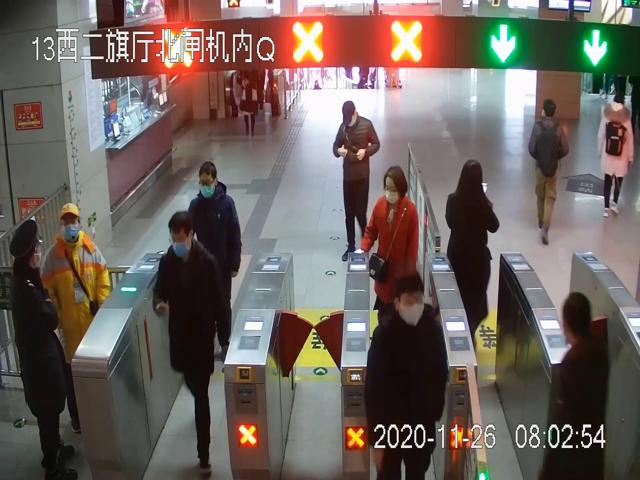person: (8, 220, 82, 480), (153, 211, 222, 477), (368, 272, 449, 480), (41, 203, 105, 433), (188, 157, 243, 367), (446, 160, 500, 344), (361, 167, 420, 328), (333, 102, 381, 259), (529, 100, 570, 248)
